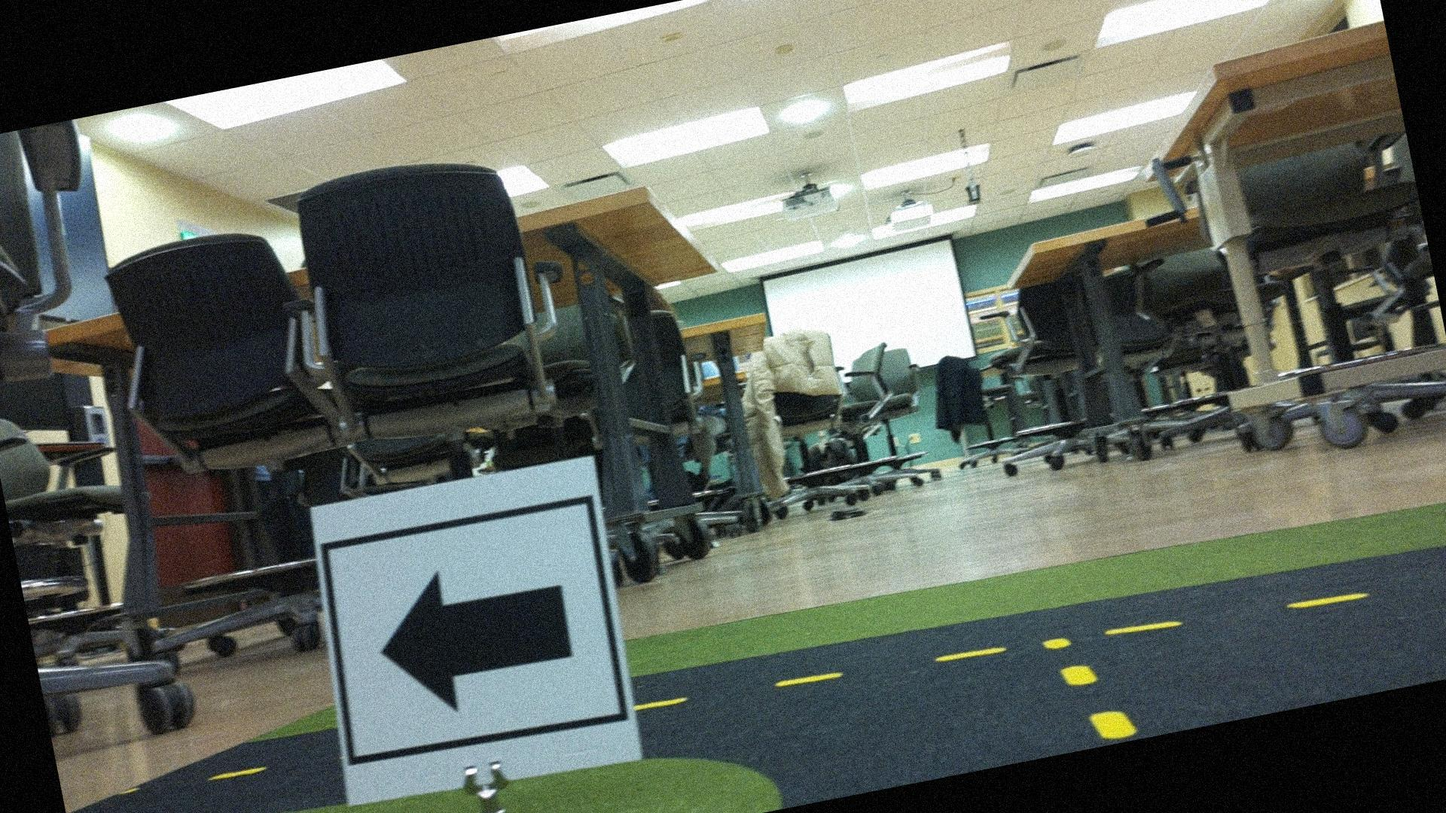turnleft: (316, 460, 639, 805)
yellowline: (641, 537, 1445, 741), (1063, 655, 1135, 746)
